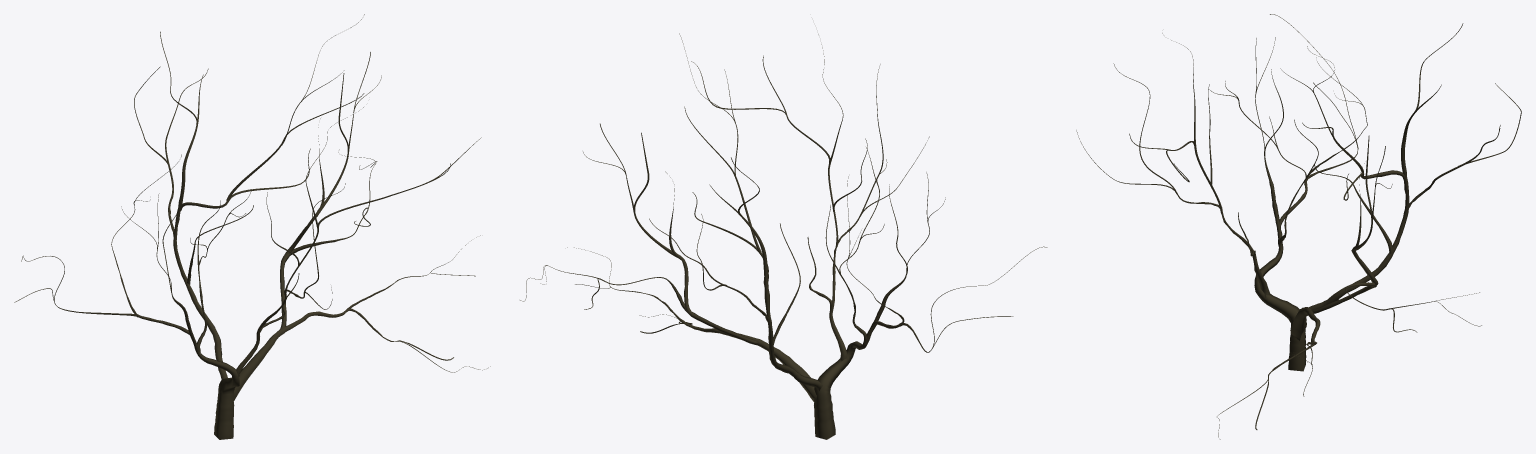
File: tree.fbx
The picture shows the model from 3 angles, left to right: view 1: azimuth 30°, elevation 25°; view 2: azimuth 150°, elevation 25°; view 3: azimuth 270°, elevation 25°; orthographic projection. The views are drawn at different scales.
Parts seen in each view (by area): view 1: Mesh_Curve_Mesh.001; view 2: Mesh_Curve_Mesh.001; view 3: Mesh_Curve_Mesh.001.
Part boxes in pixels (x1=…): Mesh_Curve_Mesh.001: x1=14, y1=14, x2=490, y2=439; Mesh_Curve_Mesh.001: x1=520, y1=33, x2=1047, y2=439; Mesh_Curve_Mesh.001: x1=1076, y1=14, x2=1521, y2=439.
Bounding box in the file's own units: 17.43 × 13.33 × 13.6.
